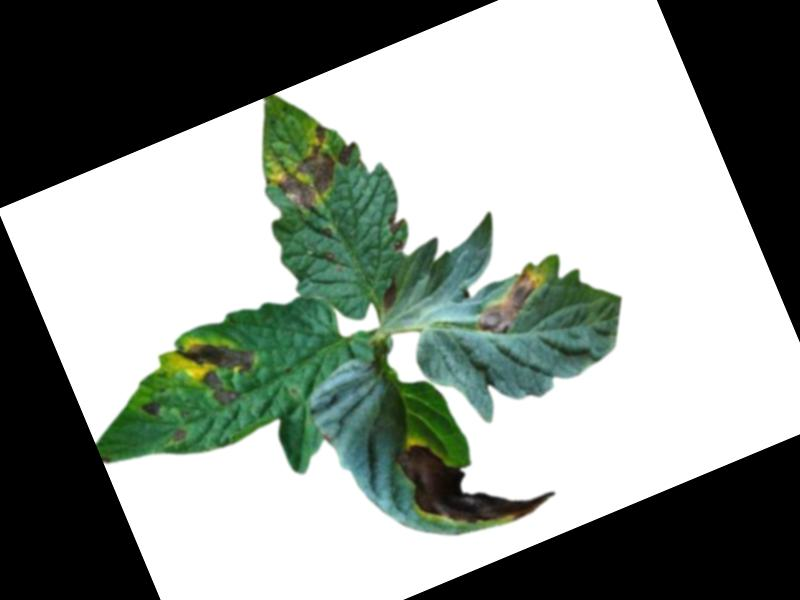Early_blight: (392, 401, 559, 554), (260, 121, 353, 220), (173, 322, 268, 417), (462, 260, 559, 343), (380, 208, 413, 254), (374, 275, 405, 312), (334, 140, 362, 169), (139, 398, 164, 423), (169, 425, 190, 444)
